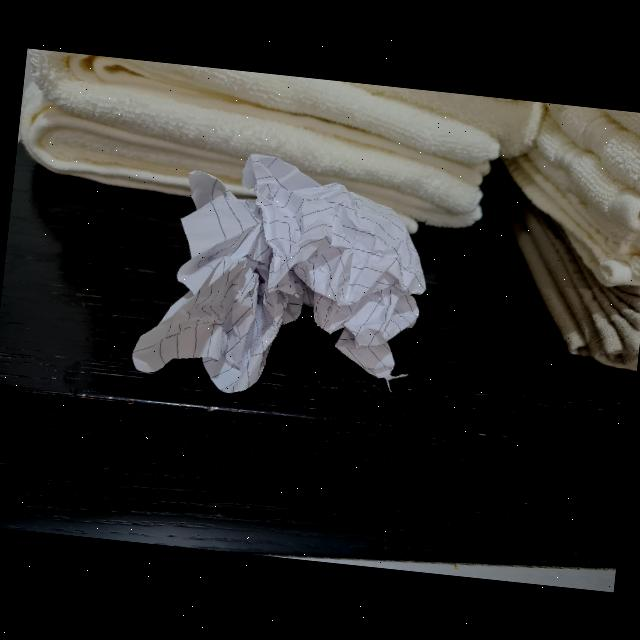trash: (126, 145, 432, 410)
